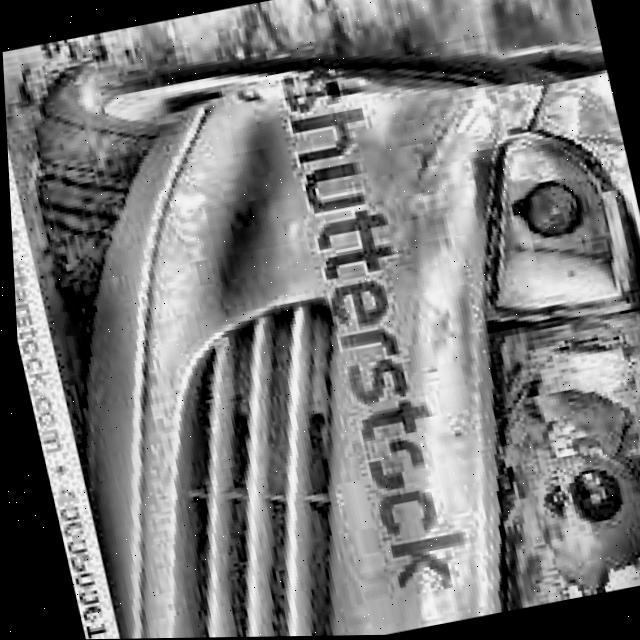bumper_dent: (132, 116, 311, 330)
head_lamp: (452, 319, 640, 611), (454, 123, 640, 333)
